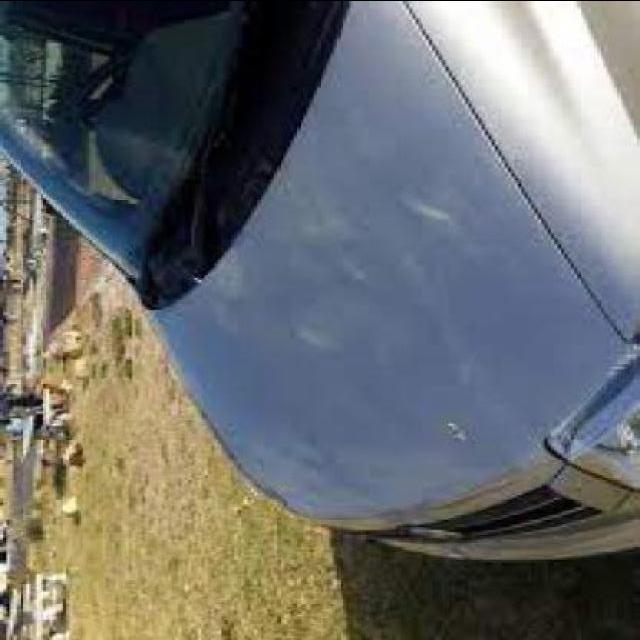bonnet-dent: (202, 106, 588, 512)
